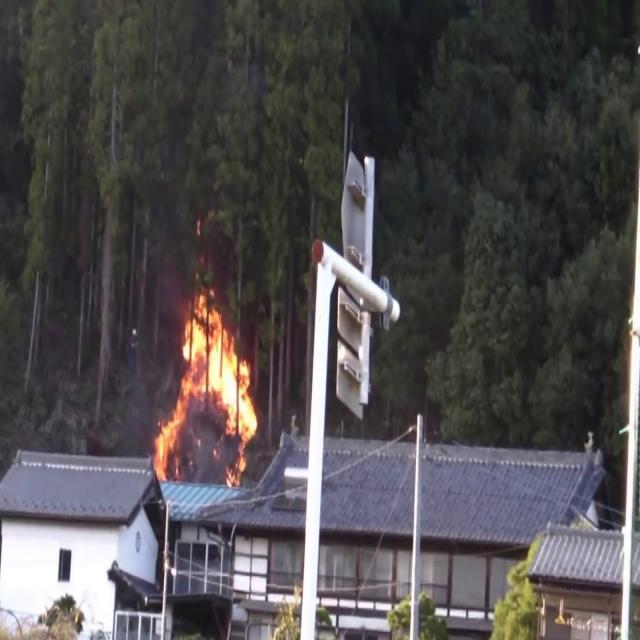Fire: (152, 287, 258, 488)
